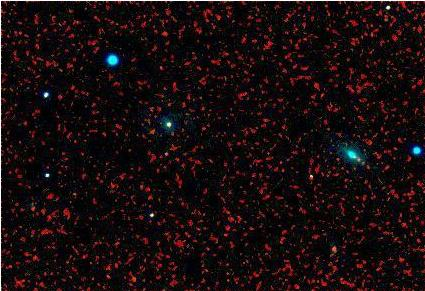star: (147, 136, 177, 166)
